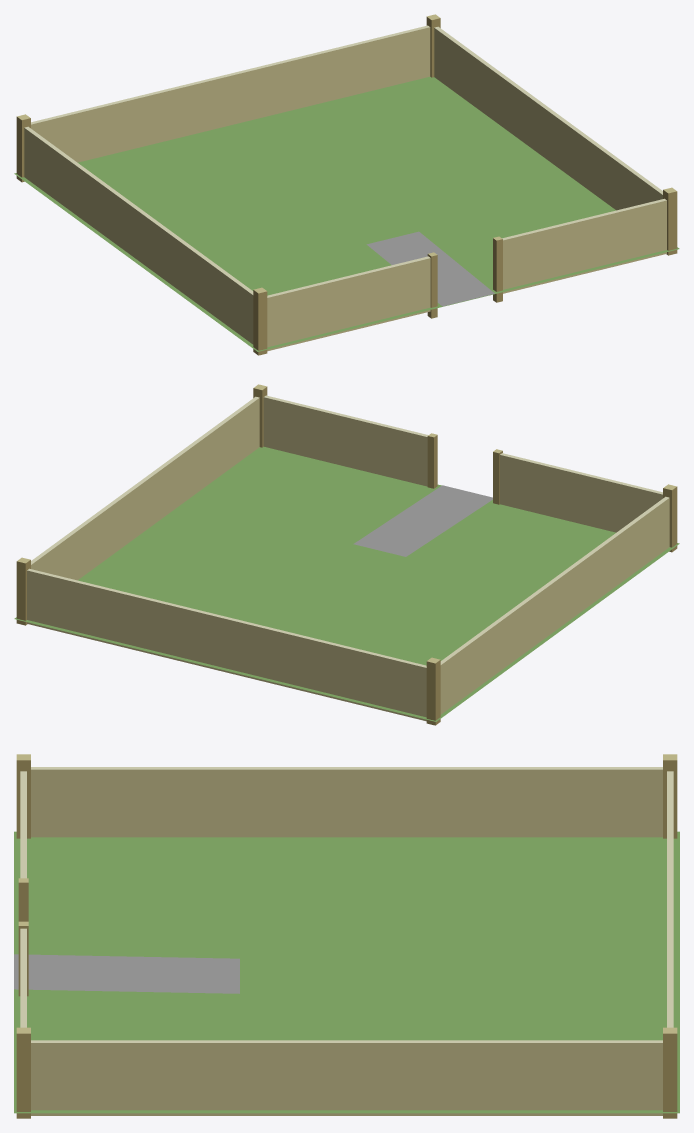
The model's file is tile_for_home_1x1_001.fbx.
3 renders of one model, top to bottom at view 1: azimuth 30°, elevation 25°; view 2: azimuth 150°, elevation 25°; view 3: azimuth 270°, elevation 25°, orthographic. The views are drawn at different scales.
Parts seen in each view (by area): view 1: tile_for_home_1x1_001; view 2: tile_for_home_1x1_001; view 3: tile_for_home_1x1_001.
Part boxes in pixels (bbox=[...]): tile_for_home_1x1_001: bbox=[14, 14, 679, 355]; tile_for_home_1x1_001: bbox=[14, 384, 679, 725]; tile_for_home_1x1_001: bbox=[14, 754, 679, 1118].
Bounding box in the file's own units: 800 × 123 × 800.
